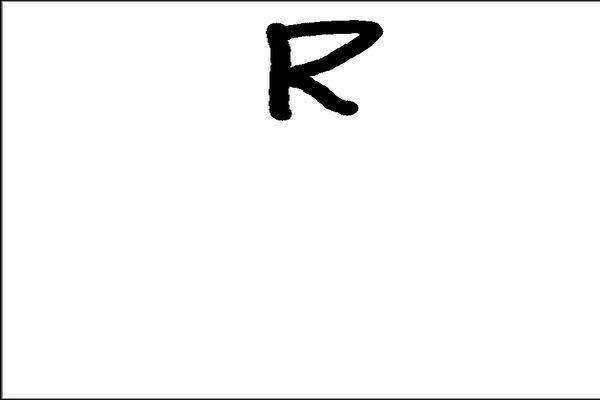R: (252, 14, 389, 116)
